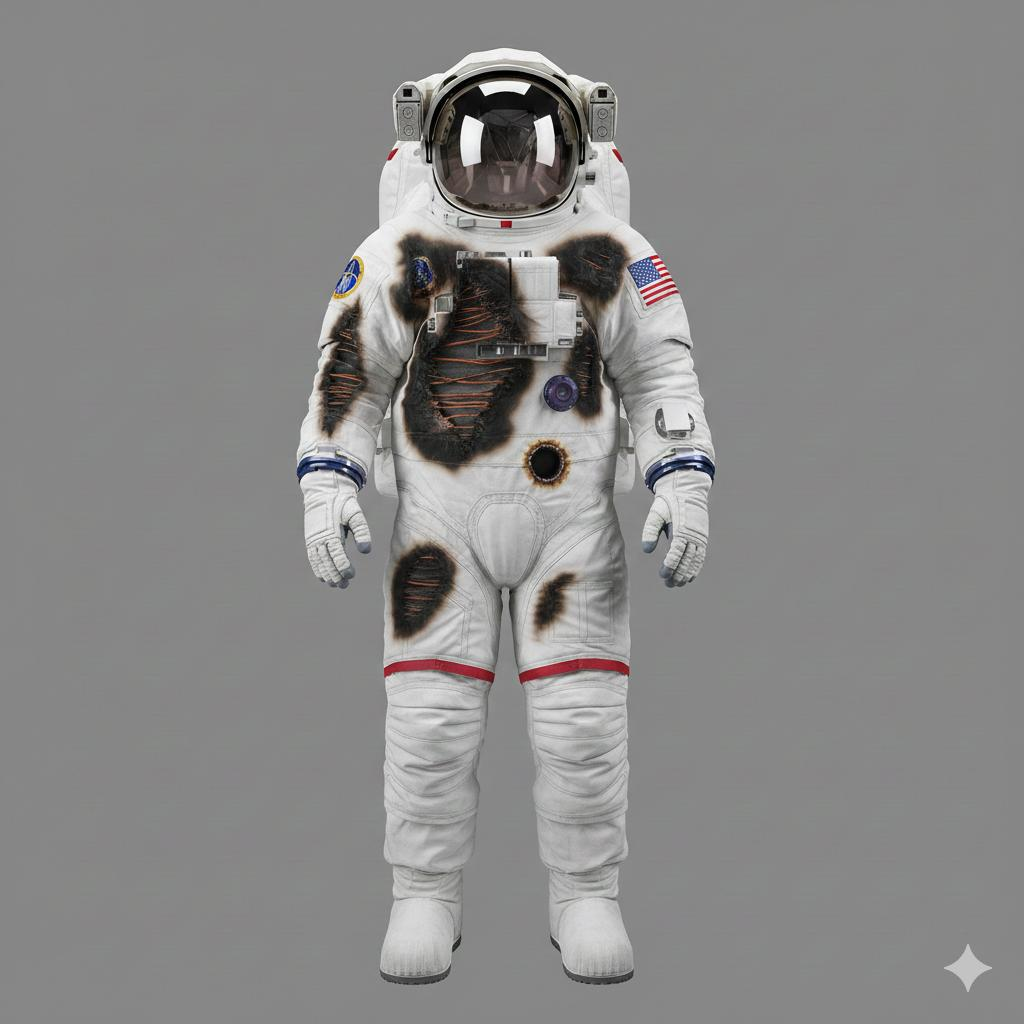burn: (375, 248, 541, 482), (515, 223, 641, 434), (365, 533, 456, 672), (312, 316, 394, 460), (525, 543, 604, 642)
